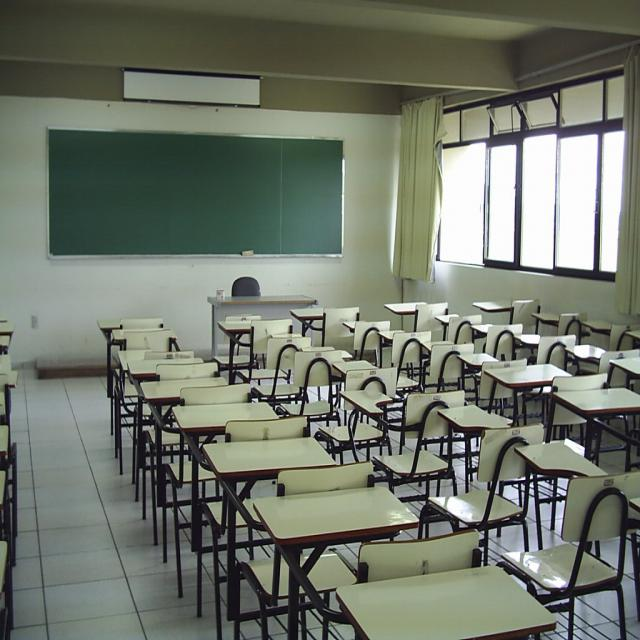2001: (407, 65, 638, 279)
all: (399, 40, 637, 449)
blackboard: (47, 128, 342, 257)
ceiling beam: (1, 1, 637, 91)
chair part: (231, 275, 259, 296)
curtain crop: (389, 98, 443, 282), (614, 42, 638, 311)
desk calendar: (497, 438, 638, 638), (209, 292, 316, 360)
desks: (94, 314, 558, 640), (217, 314, 547, 566), (290, 306, 638, 472), (384, 297, 638, 397)
floor -X: (1, 349, 638, 638)
wall clock: (1, 60, 401, 363)
